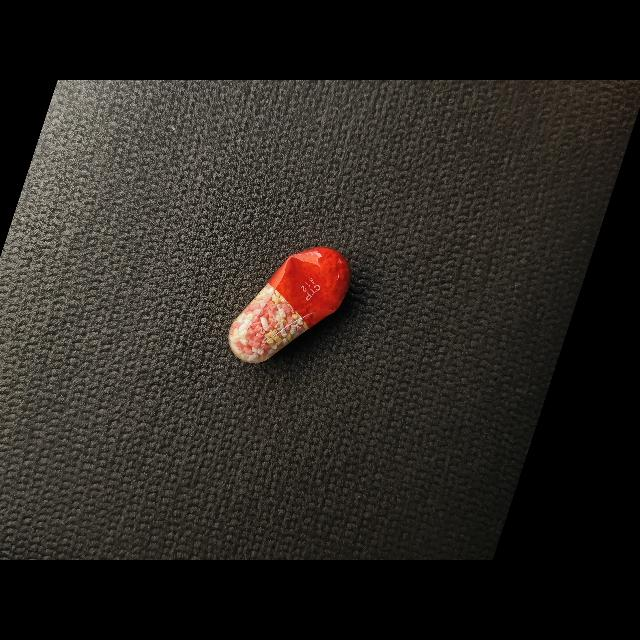Defective Capsule: (228, 247, 351, 363)
